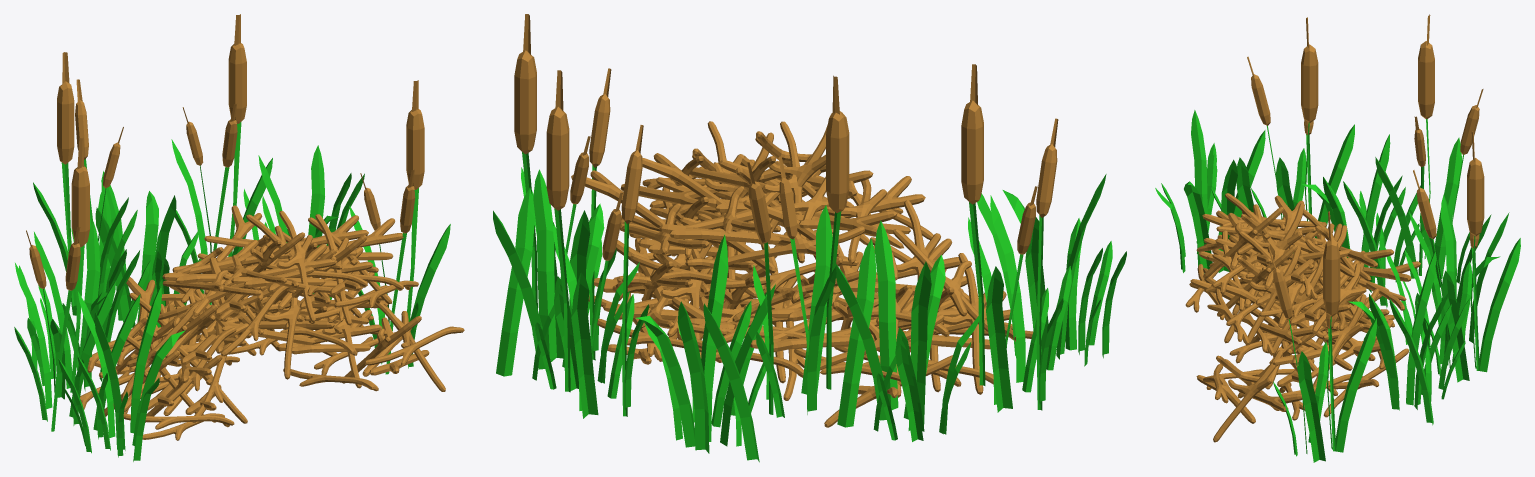
File: Beaver Den.fbx
3 views of the same model, side by side, from view 1: azimuth 30°, elevation 25°; view 2: azimuth 150°, elevation 25°; view 3: azimuth 270°, elevation 25° (orthographic). The views are drawn at different scales.
Parts seen in each view (by area): view 1: Beaver Den; view 2: Beaver Den; view 3: Beaver Den.
Boxes of the visible parts, x1=… form: Beaver Den: x1=14, y1=14, x2=464, y2=461; Beaver Den: x1=493, y1=14, x2=1126, y2=462; Beaver Den: x1=1155, y1=14, x2=1520, y2=462.
Bounding box in the file's own units: 243 × 179 × 186.
